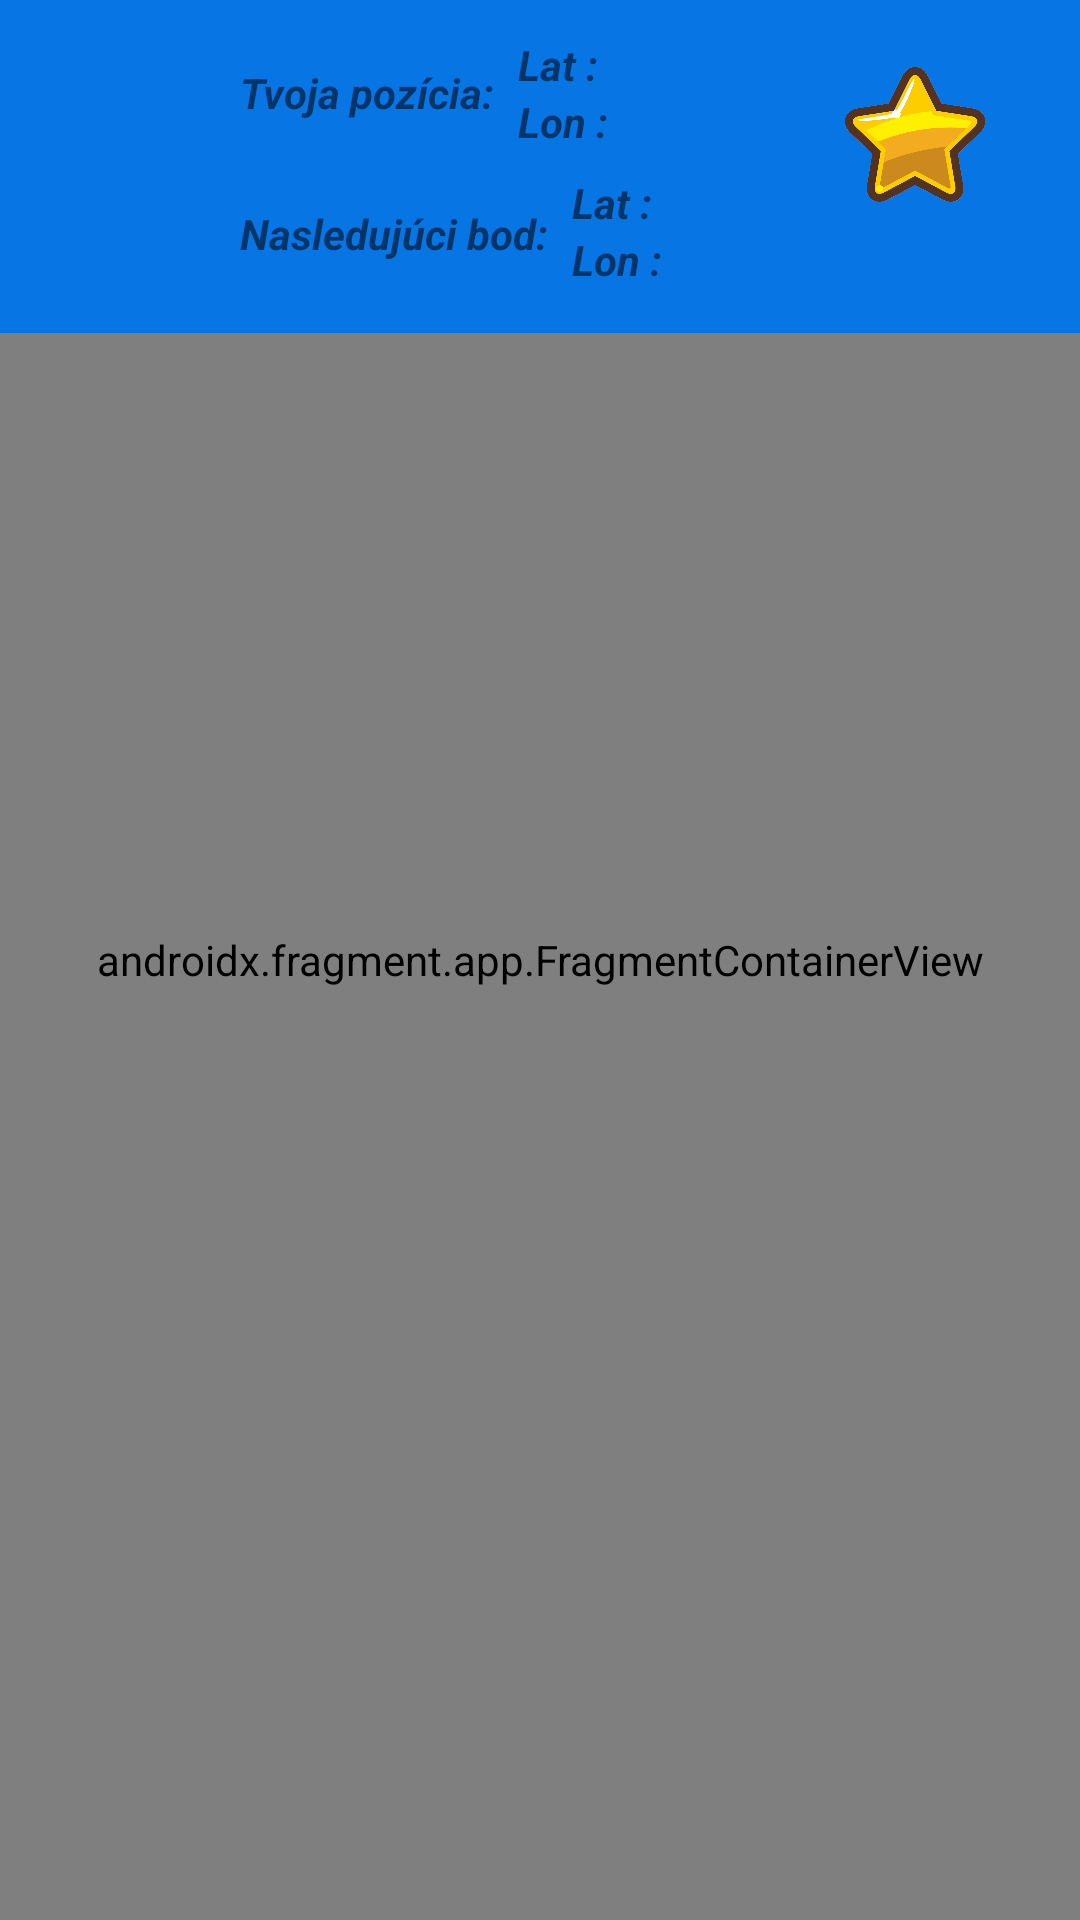

Screen size 1080 × 1920. Icon name, then its center in pixels as (x=x, y=y):
star: (x=915, y=134)
